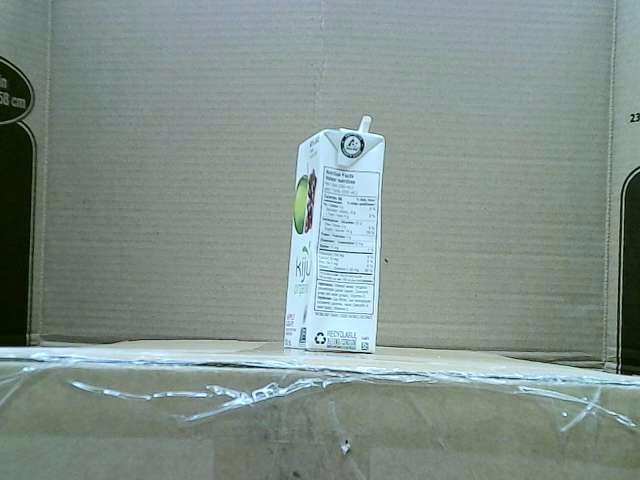JuiceBox: (281, 115, 385, 353)
